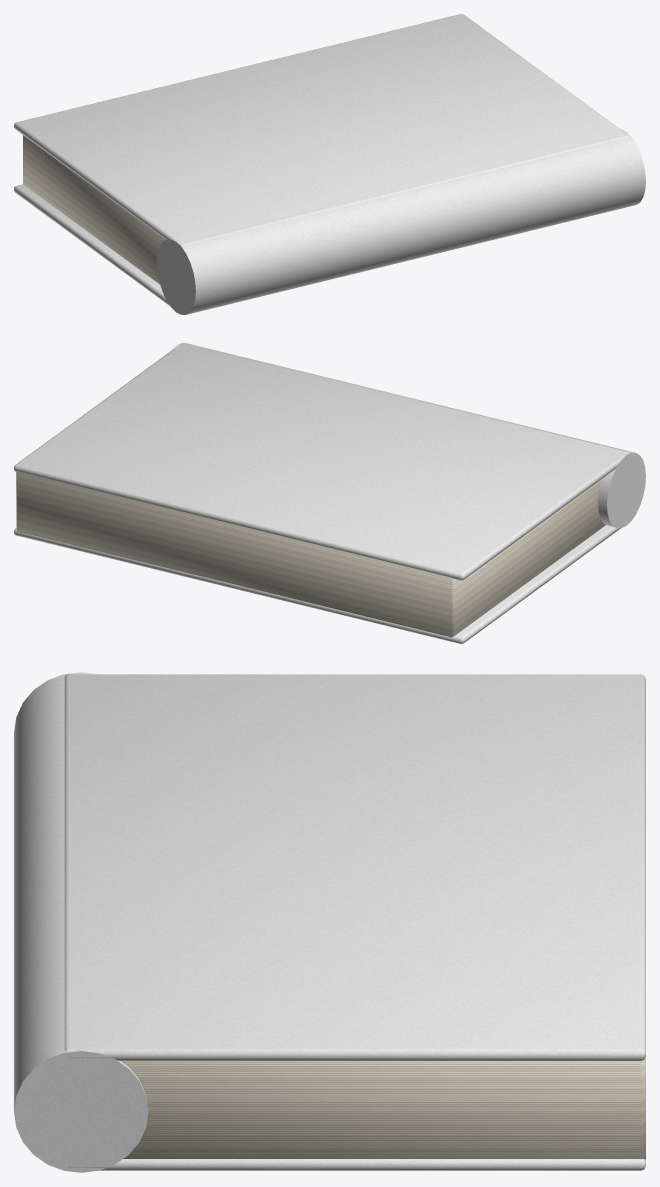
The model's file is book.glb.
The picture shows the model from 3 angles, top to bottom: view 1: azimuth 30°, elevation 25°; view 2: azimuth 150°, elevation 25°; view 3: azimuth 270°, elevation 25°; orthographic projection. The views are drawn at different scales.
Visible parts, largest first — view 1: book_board2.85, book_spine, book_block, book_board0.15; view 2: book_board2.85, book_block, book_board0.15, book_spine; view 3: book_board2.85, book_block, book_spine, book_board0.15.
Boxes of the visible parts, box(x1,y1,x2,y2) form: book_board2.85: box(14, 14, 629, 248); book_spine: box(157, 129, 645, 314); book_block: box(23, 135, 165, 284); book_board0.15: box(14, 184, 179, 311); book_board2.85: box(14, 343, 629, 580); book_block: box(16, 471, 605, 637); book_board0.15: box(14, 525, 622, 643); book_spine: box(171, 343, 645, 528); book_board2.85: box(64, 674, 645, 1060); book_block: box(120, 1056, 645, 1159); book_spine: box(14, 672, 148, 1172); book_board0.15: box(68, 1159, 645, 1170).
Size of the model in its own units: 20 by 3 by 14.1.
Materials: 2 (2 with a texture image).
